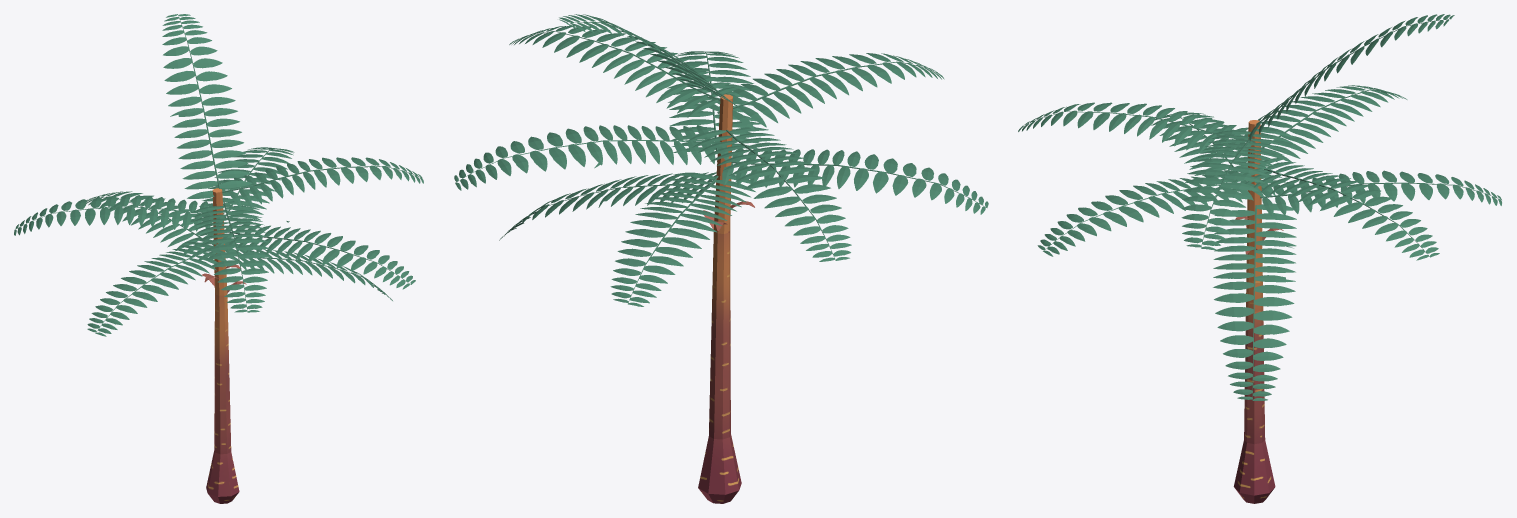
Rendered from palmito_big_fixed2.fbx.
3 renders of one model, left to right at view 1: azimuth 30°, elevation 25°; view 2: azimuth 150°, elevation 25°; view 3: azimuth 270°, elevation 25°, orthographic. The views are drawn at different scales.
Visible parts, largest first — view 1: Palmito_improved; view 2: Palmito_improved; view 3: Palmito_improved.
Boxes of the visible parts, x1,y1,x2,y2 form: Palmito_improved: [14, 14, 423, 503]; Palmito_improved: [454, 14, 988, 503]; Palmito_improved: [1018, 14, 1501, 503].
Size of the model in its own units: 856 by 978 by 858.
